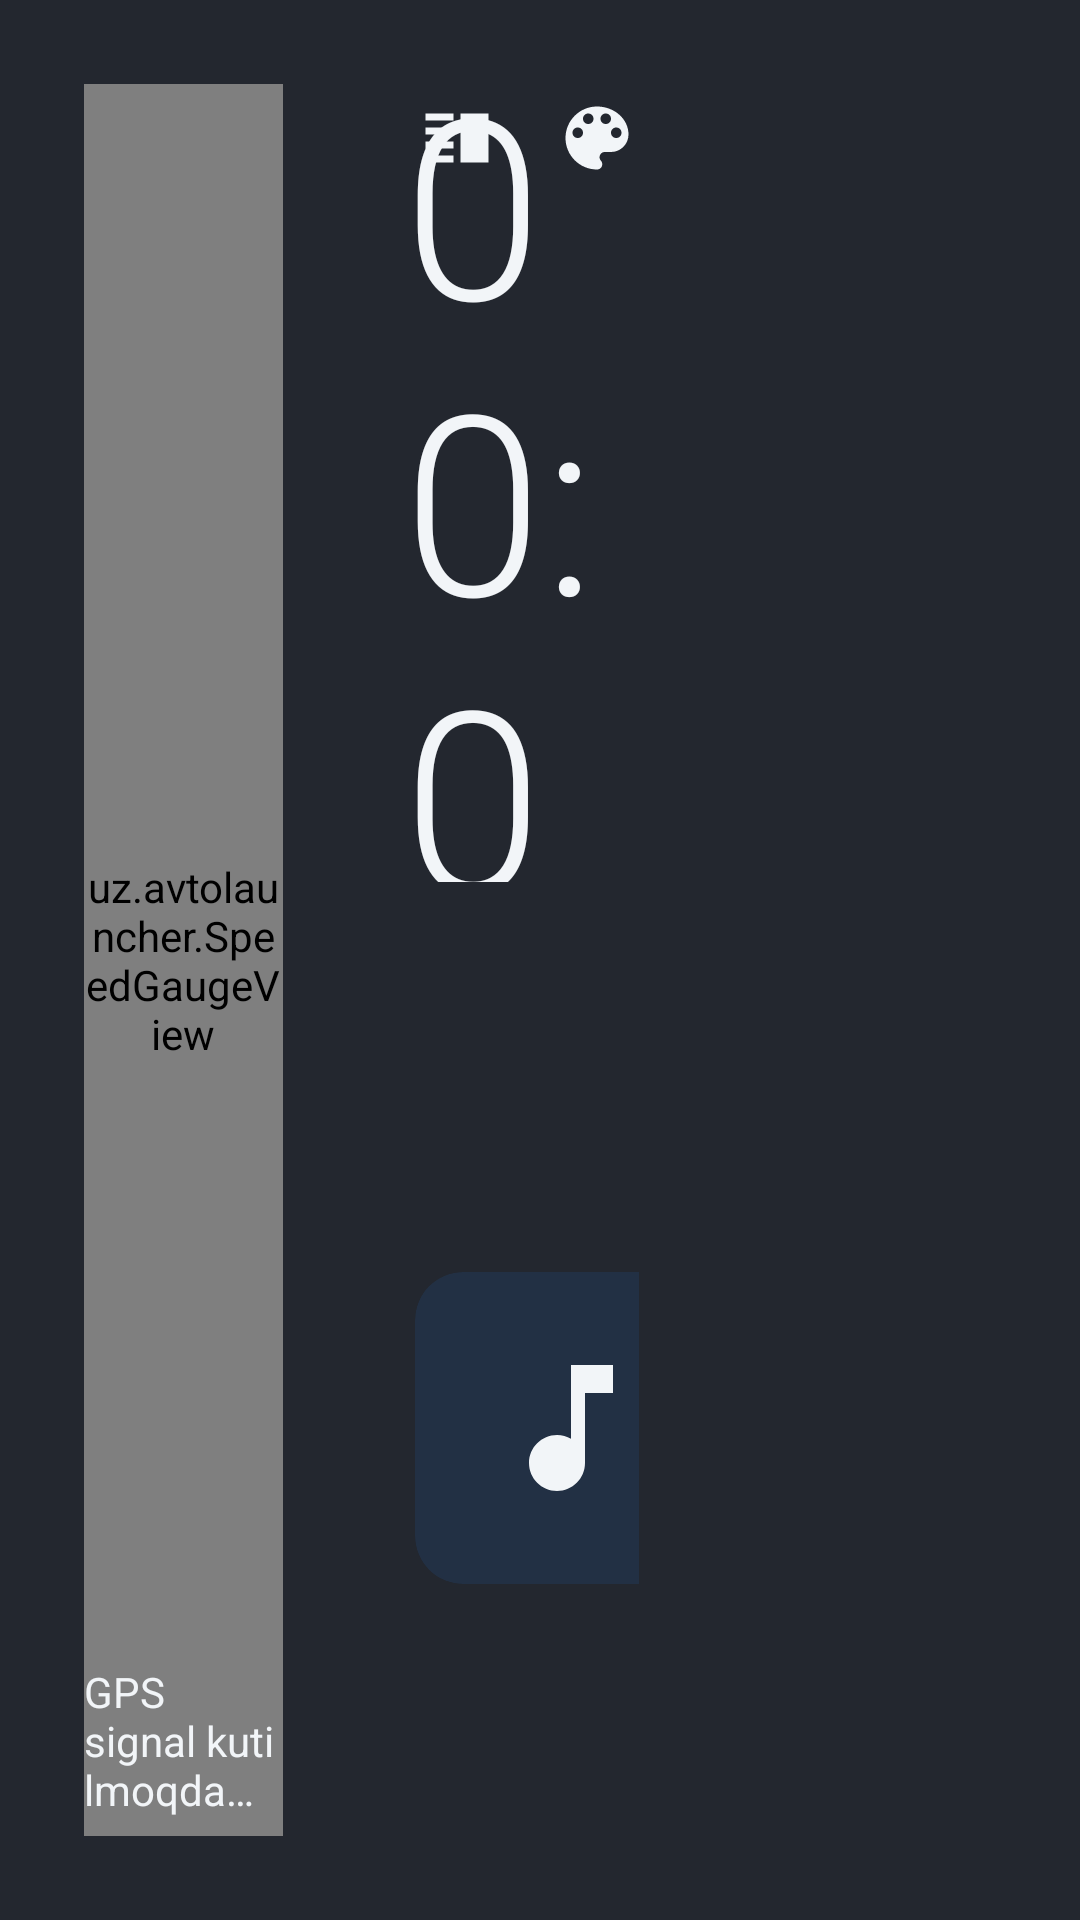

Icons on this 1080 × 1920 Android screen, each with its box as BBox(x1, y1, x2, y2):
theme: BBox(565, 106, 629, 170)
